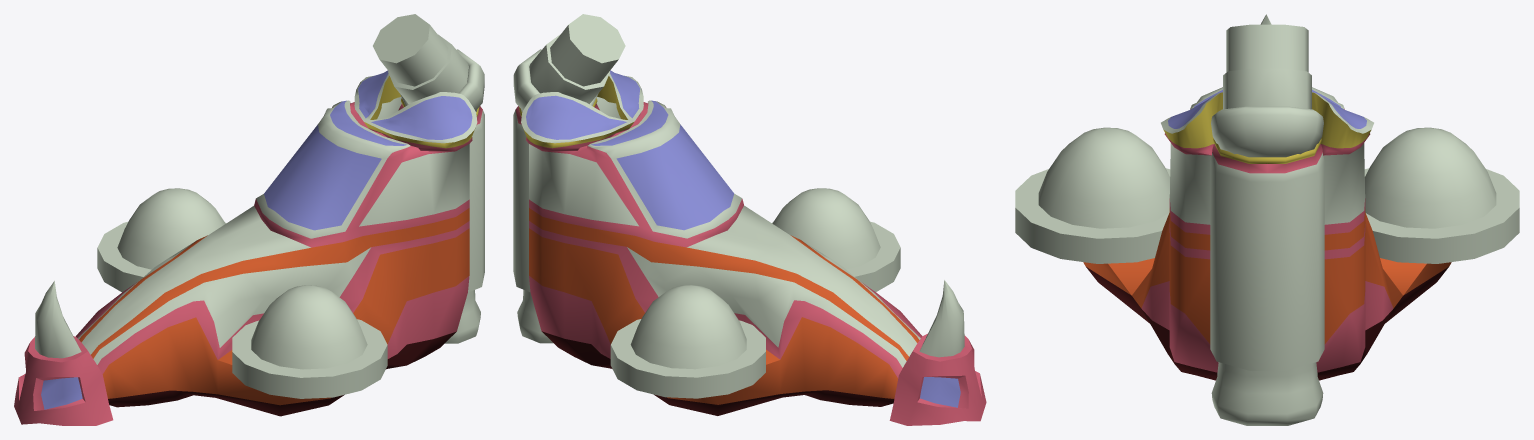
File: miner.fbx
3 renders of one model, left to right at view 1: azimuth 30°, elevation 25°; view 2: azimuth 150°, elevation 25°; view 3: azimuth 270°, elevation 25°, orthographic. The views are drawn at different scales.
Visible parts, largest first — view 1: Plane, Plane.001, Cube.001; view 2: Plane, Plane.001, Cube.001; view 3: Plane.001, Plane.
Boxes of the visible parts, left/top/right/bottom form: Plane: left=75, top=70, right=477, bottom=416; Plane.001: left=97, top=14, right=484, bottom=398; Cube.001: left=14, top=281, right=113, bottom=425; Plane: left=521, top=70, right=922, bottom=415; Plane.001: left=513, top=14, right=900, bottom=398; Cube.001: left=889, top=280, right=986, bottom=425; Plane.001: left=1015, top=24, right=1519, bottom=425; Plane: left=1083, top=87, right=1451, bottom=380.
Size of the model in its own units: 336 by 219 by 267.
